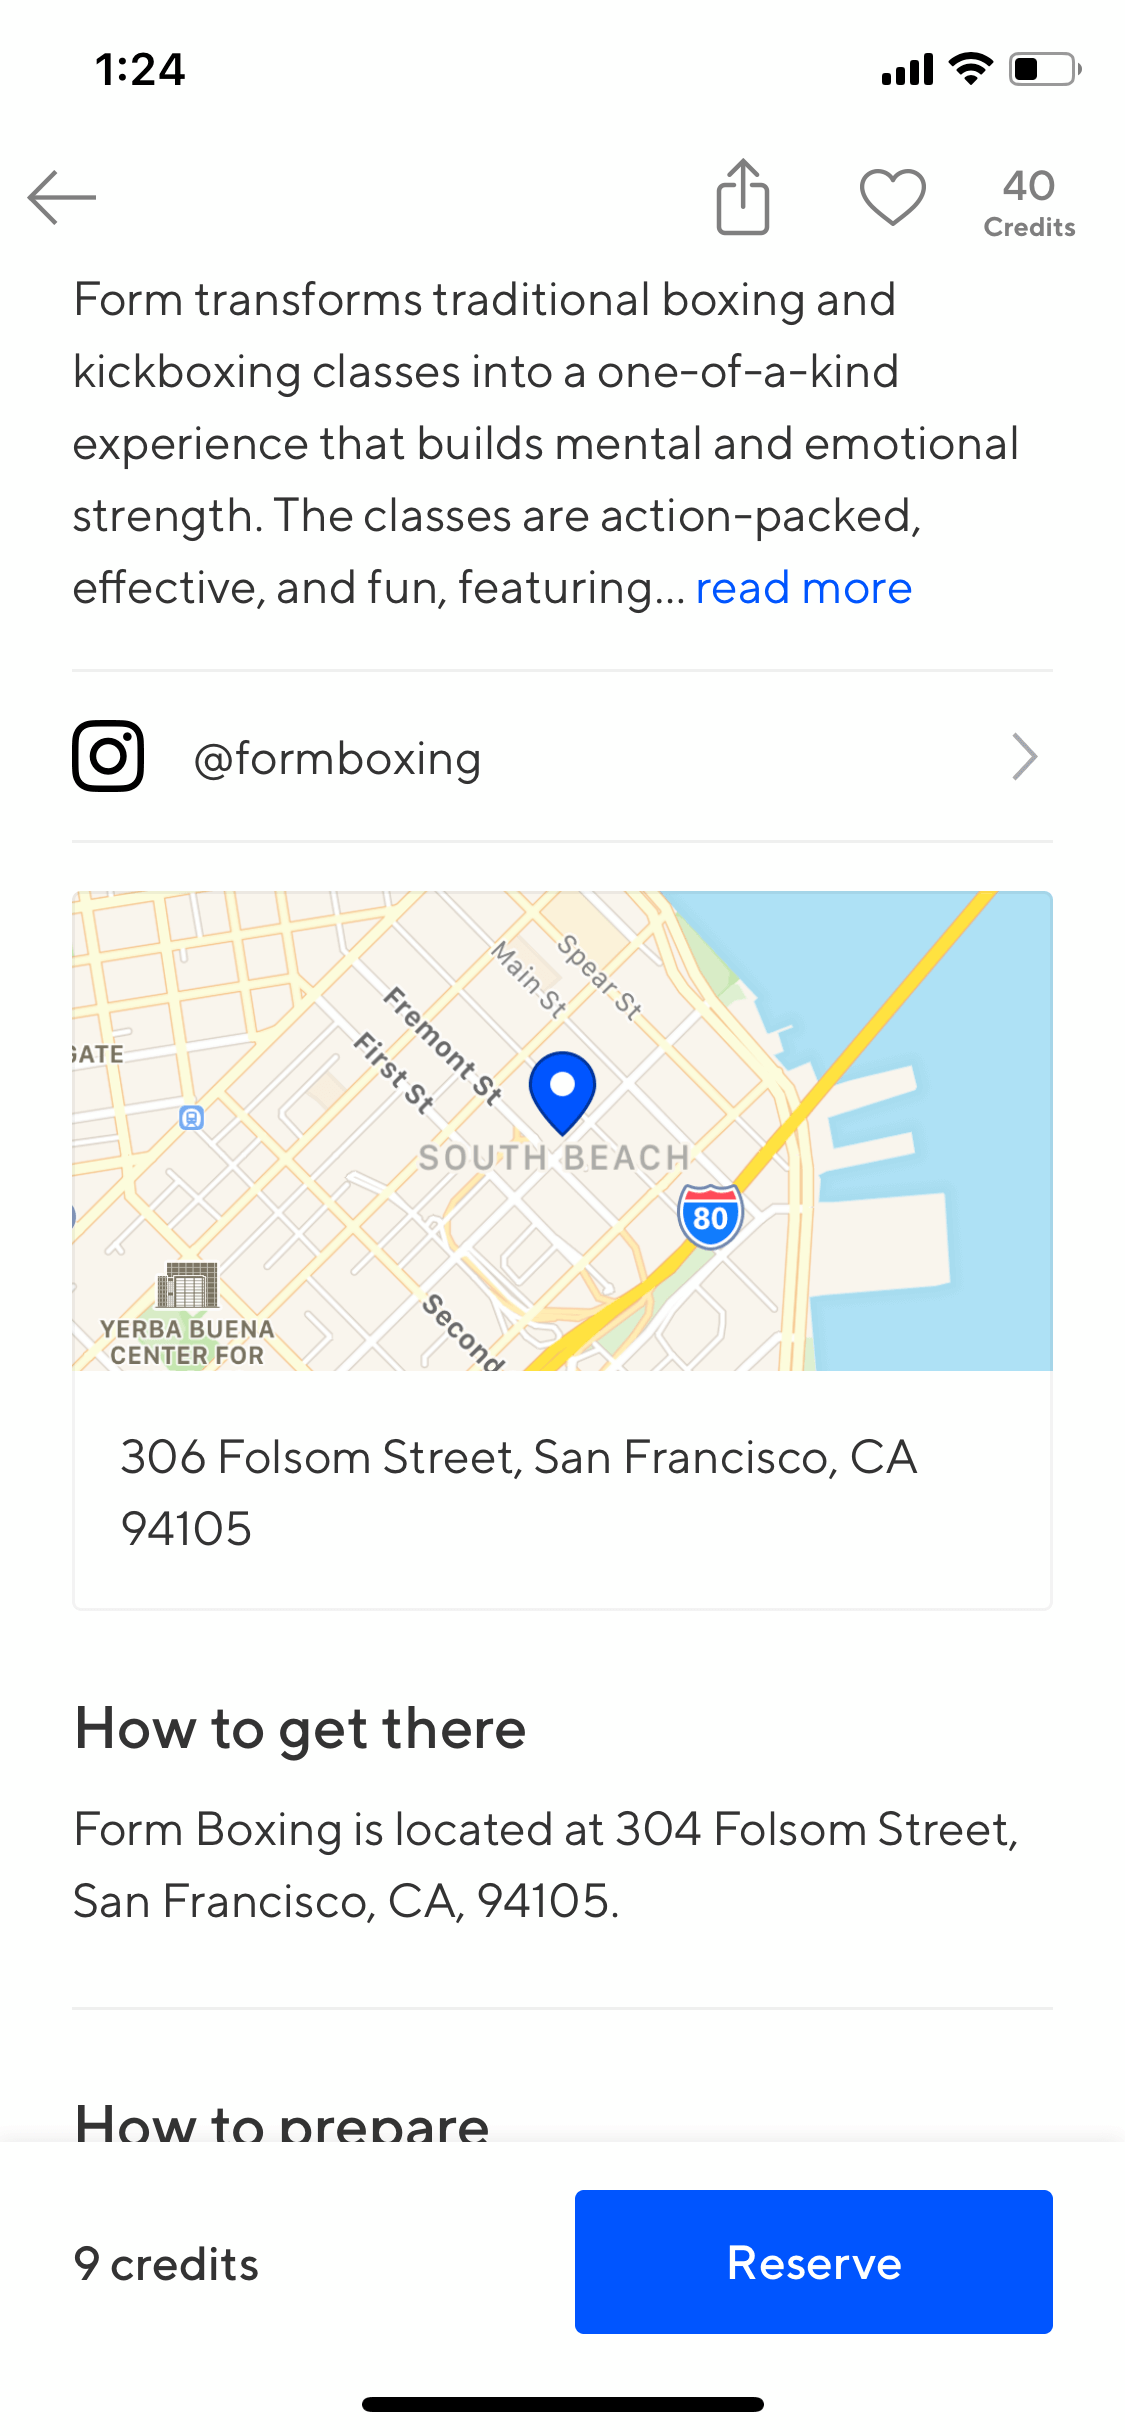Buttons: (556, 2181, 1071, 2351), (676, 134, 810, 255), (973, 138, 1102, 261), (2, 130, 124, 258), (839, 137, 957, 258)
